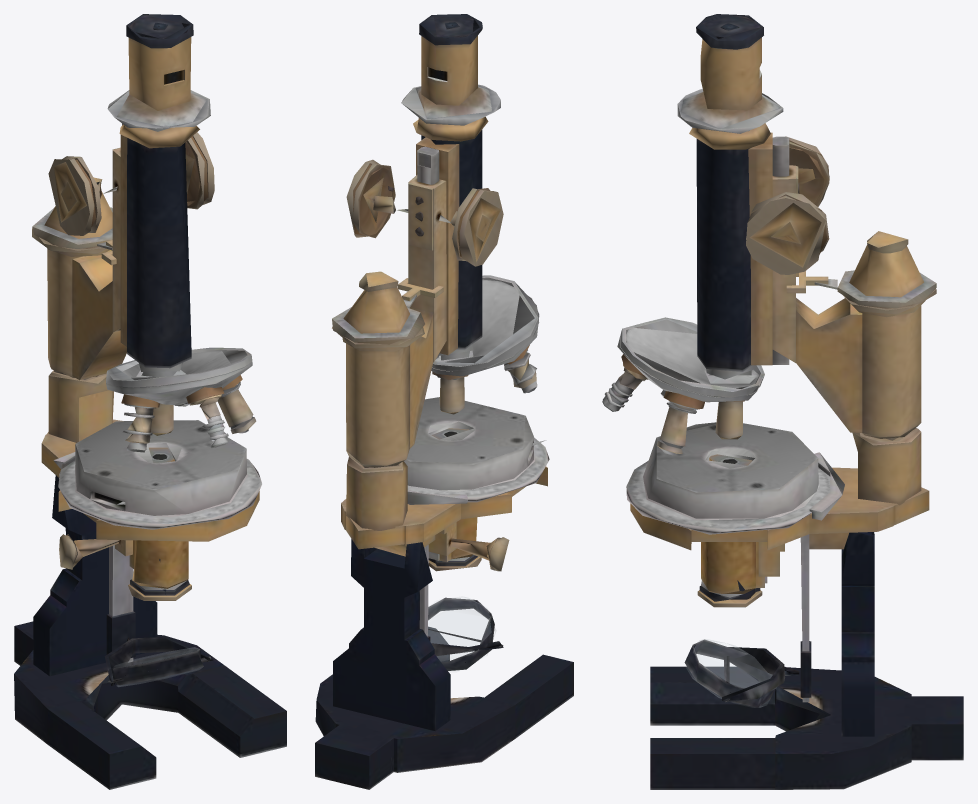
The model's file is vintage_microscope.glb.
3 renders of one model, left to right at view 1: azimuth 30°, elevation 25°; view 2: azimuth 150°, elevation 25°; view 3: azimuth 270°, elevation 25°, orthographic. The views are drawn at different scales.
Visible parts, largest first — view 1: vintage_microscope, vintage_microscope_glass; view 2: vintage_microscope, vintage_microscope_glass; view 3: vintage_microscope, vintage_microscope_glass.
Part boxes in pixels (box(x1,y1,x2,y2)): vintage_microscope: box(14, 14, 286, 789); vintage_microscope_glass: box(114, 647, 202, 686); vintage_microscope: box(315, 14, 573, 789); vintage_microscope_glass: box(428, 597, 495, 671); vintage_microscope: box(602, 14, 963, 789); vintage_microscope_glass: box(686, 639, 771, 707).
Bounding box in the file's own units: 0.1049 × 0.3996 × 0.1819.
2 materials, 1 textured.
